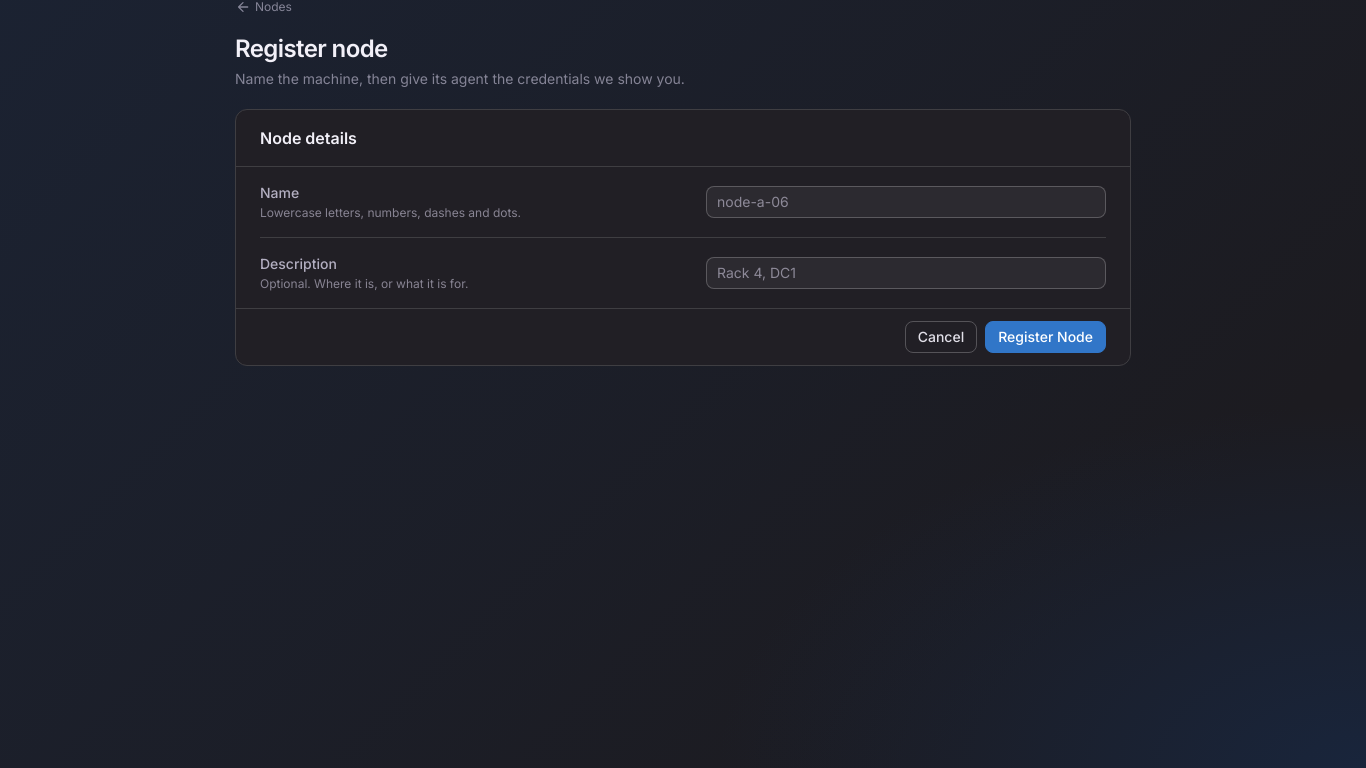
Register node page › notices the agent checking in while the credentials are open
The width and height of the screenshot is (1366, 768).
In the field labelled "Name": (906, 202) x1=717 y1=187 x2=1095 y2=217, type " gpu-c-03 "
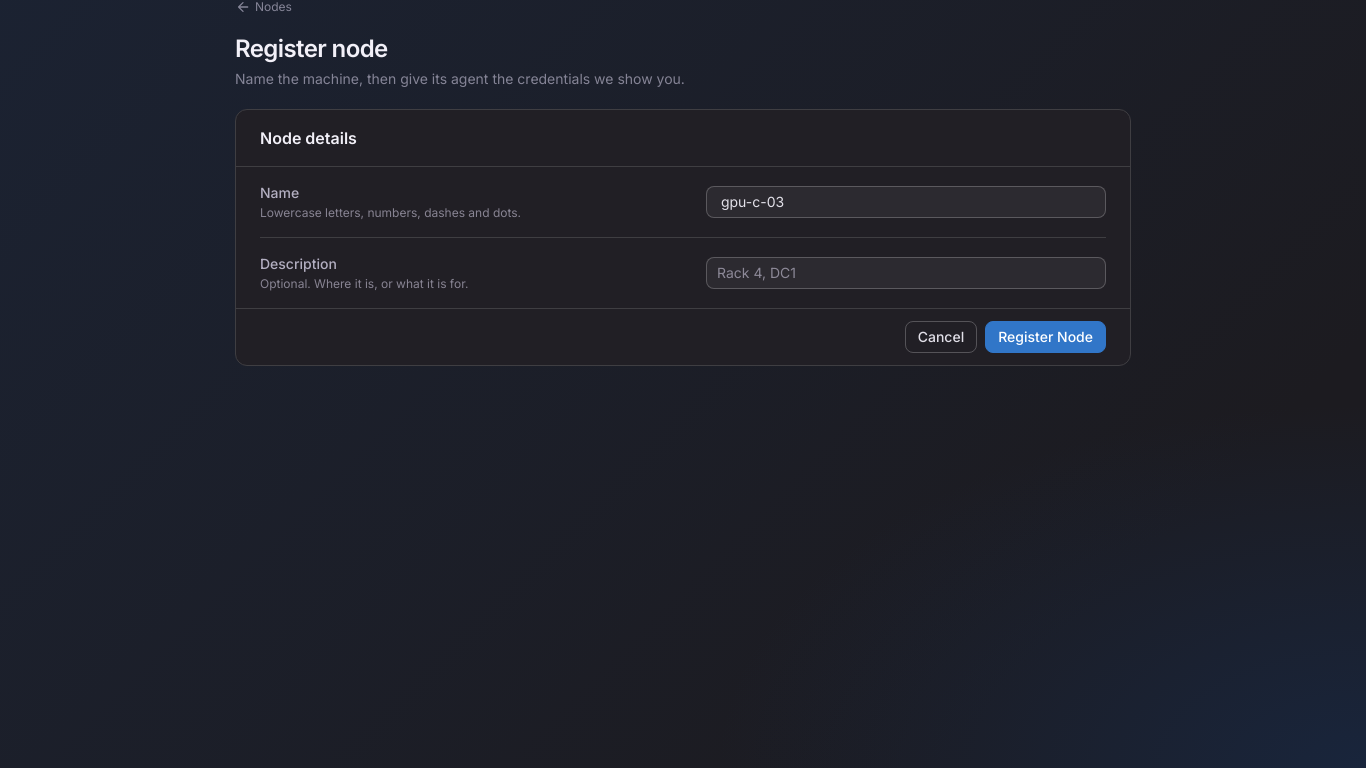
In the field labelled "Description": (906, 273) x1=717 y1=258 x2=1095 y2=288, type "Rack 4"
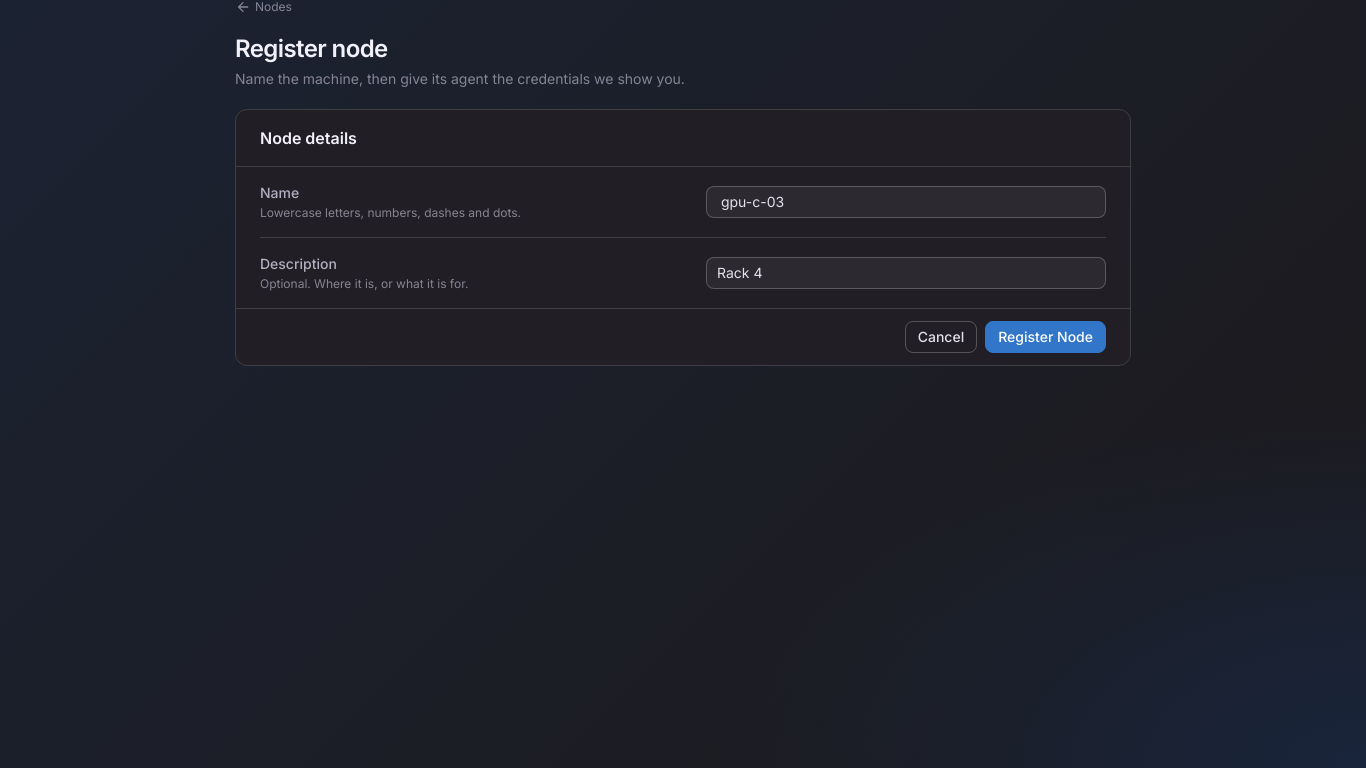
Submit the form, box x1=235 y1=109 x2=1131 y2=366
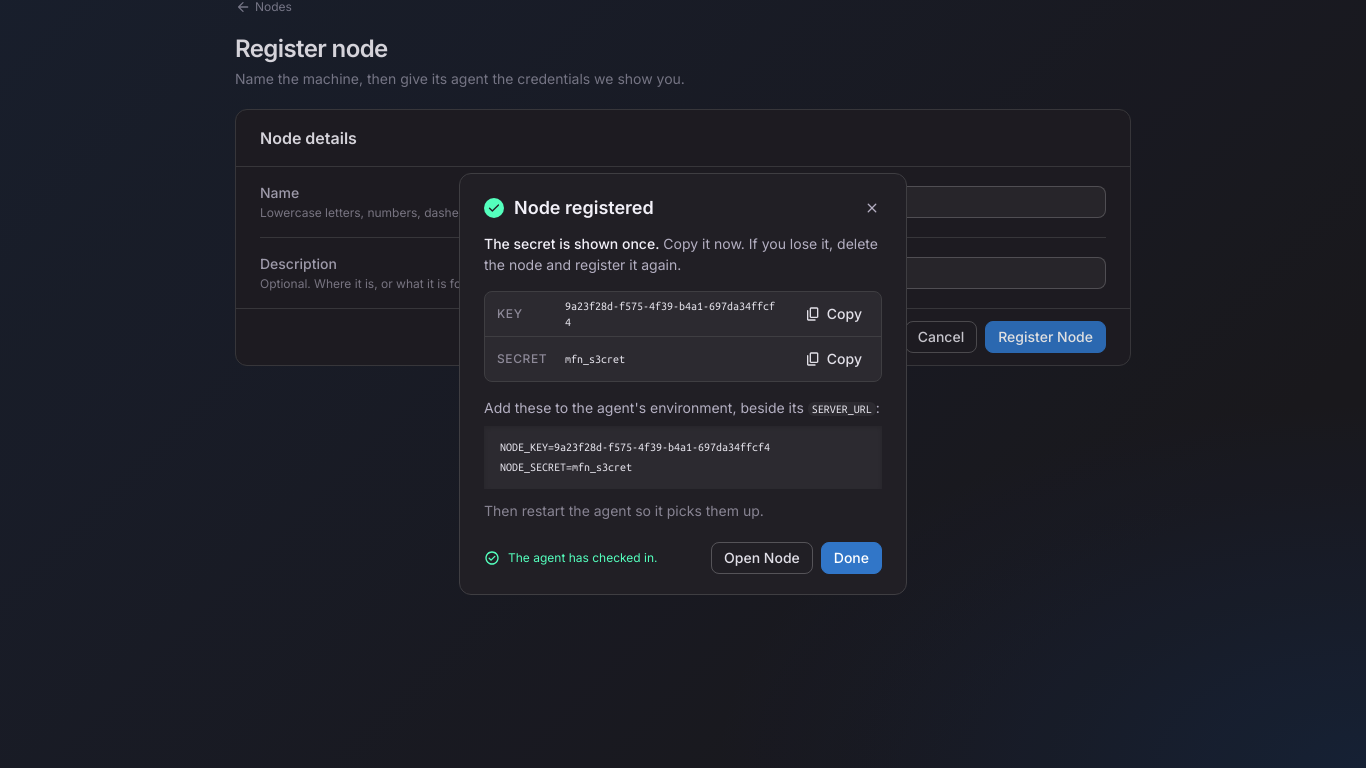
Result: the element with test id "agent-state" reads "The agent has checked in." at x1=508 y1=550 x2=658 y2=565
